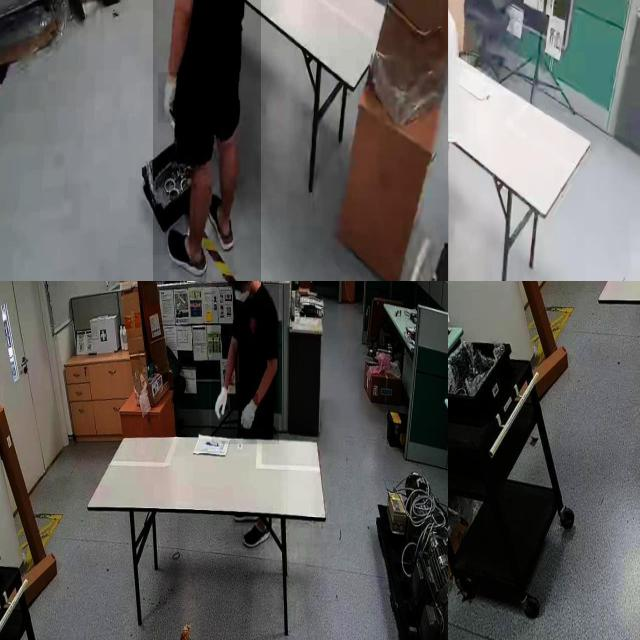face_mask: (232, 281, 253, 308)
hand_glove: (158, 72, 181, 124), (210, 382, 230, 428), (238, 393, 258, 438)
person: (152, 0, 261, 281), (211, 281, 279, 444)
shoes: (163, 228, 209, 280), (206, 190, 237, 254), (242, 516, 272, 553)
